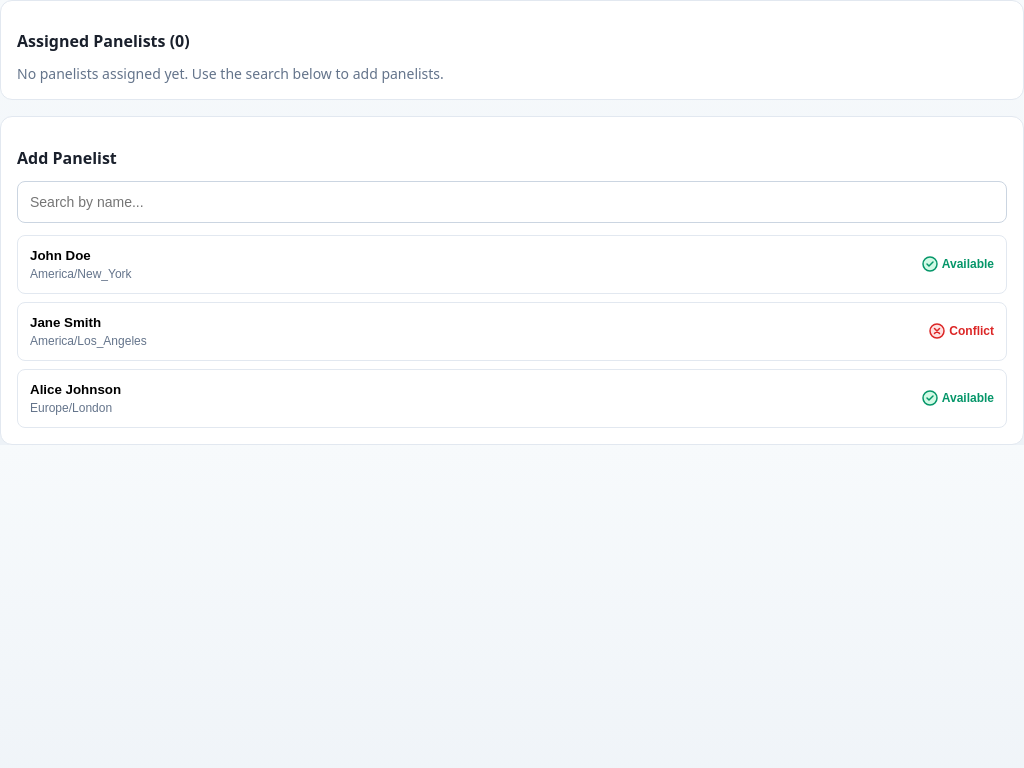
Scenario: PanelistAssignment Component › Conflict Handling › shows error message for unavailable panelists
Expected: the text "Jane Smith" is shown, [30,314,101,330]
Add unavailable panelist
Click the button "Jane Smith America/Los_Angeles Conflict" at (66, 322), box [17,302,1007,360]
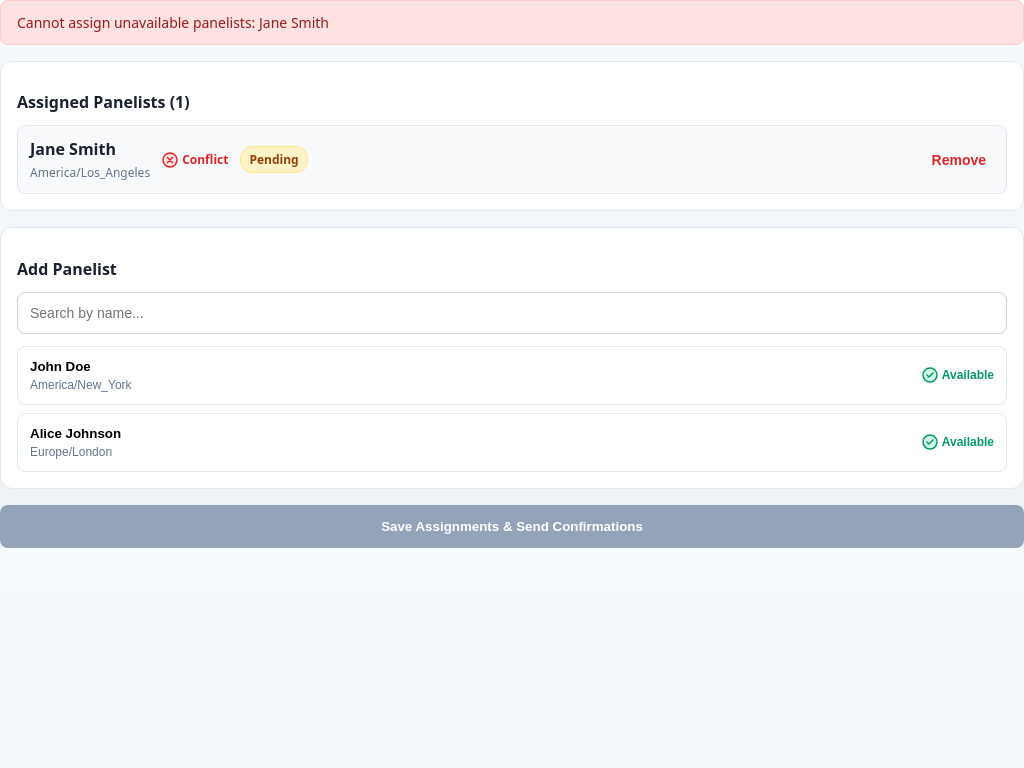
Expected: the text "Assigned Panelists" shows "Jane Smith", [30,138,116,160]
Expected: the text "Assigned Panelists" shows "Conflict", [182,151,228,168]
